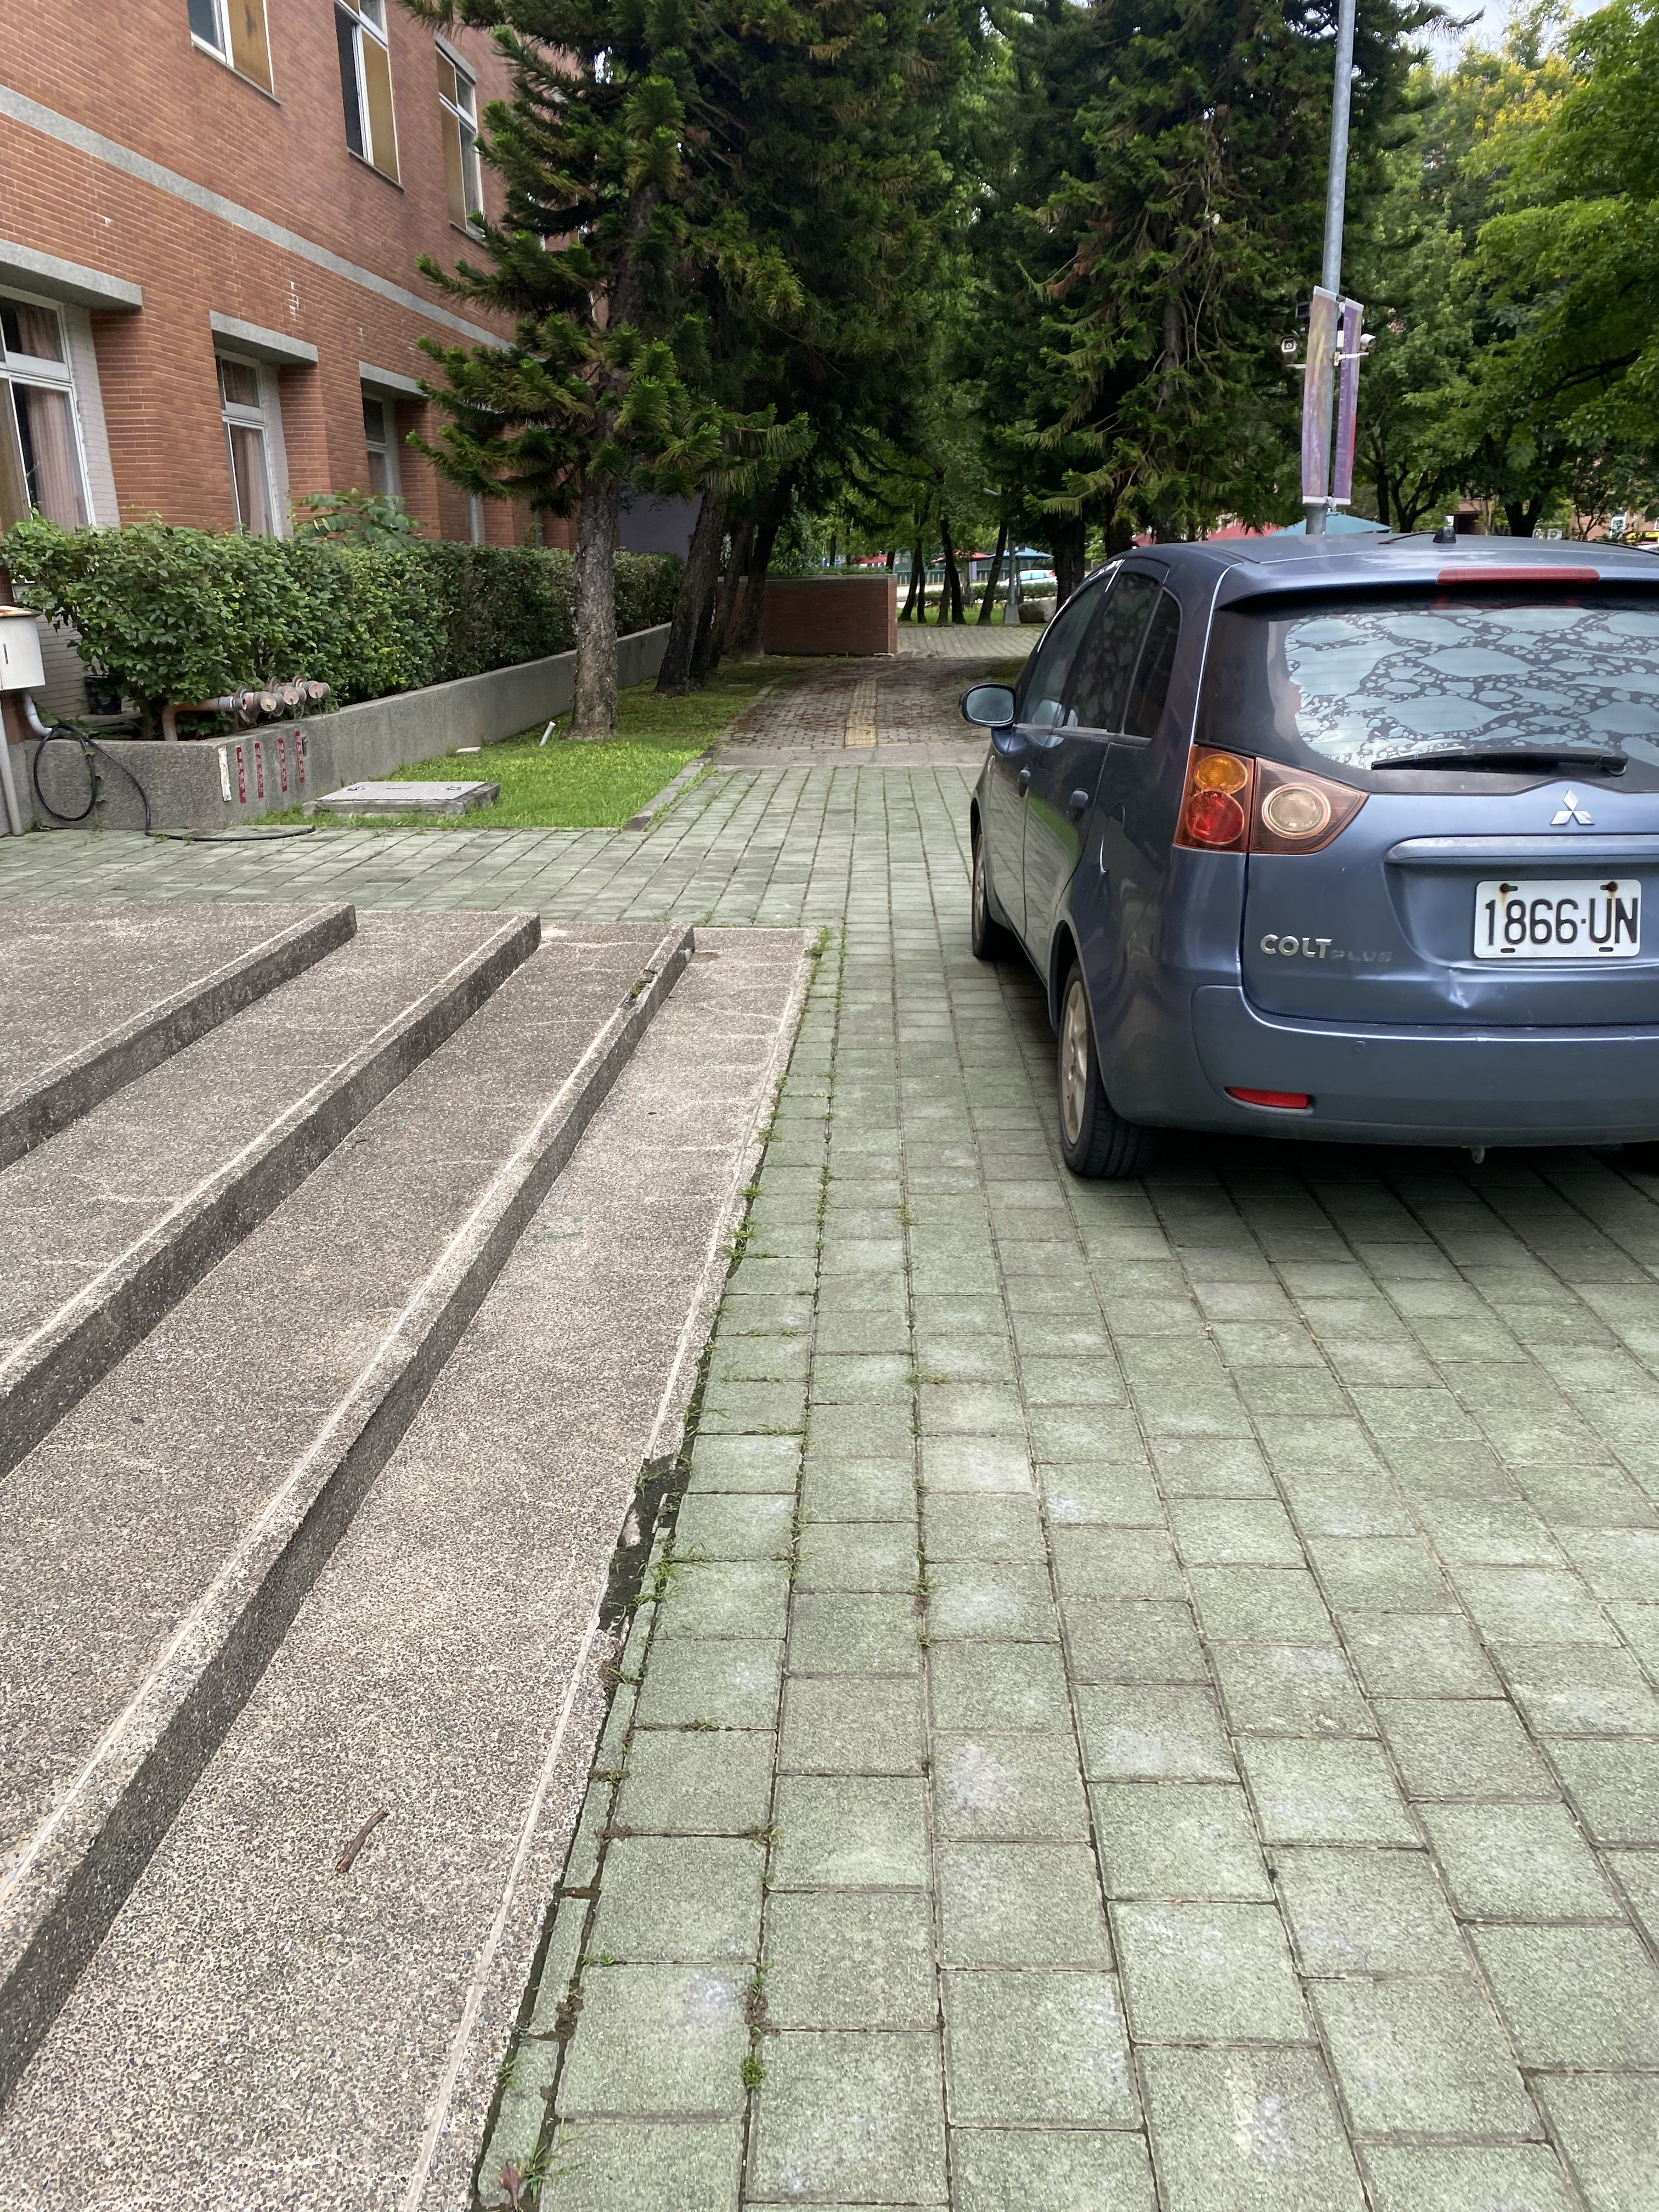sidewalk: (580, 597, 1659, 2212)
